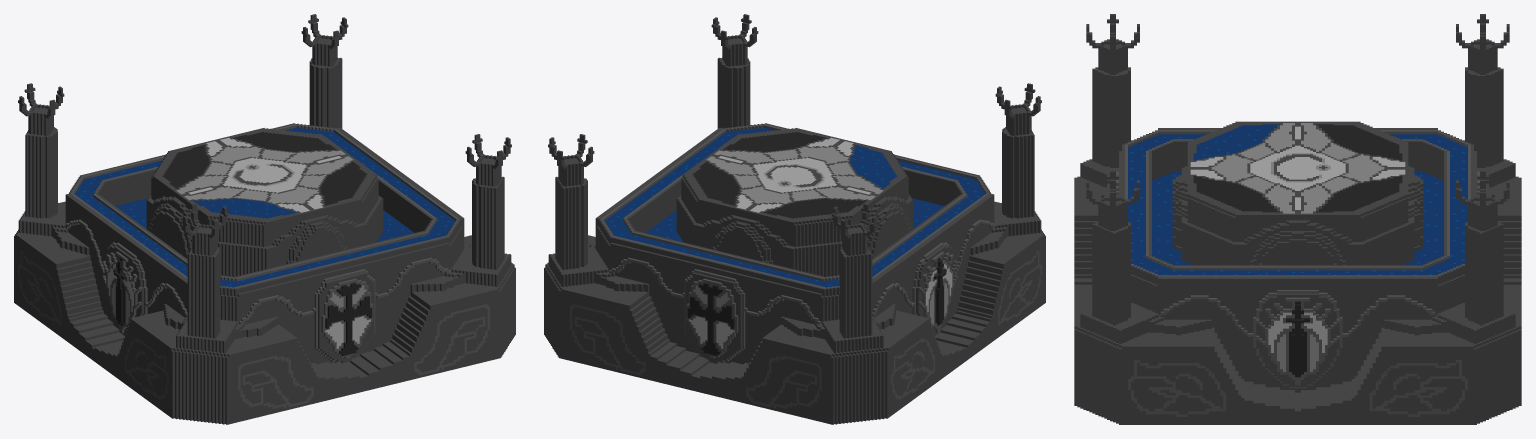
The model's file is алтарь для босса(одна синняя руна).obj.
The picture shows the model from 3 angles, left to right: view 1: azimuth 30°, elevation 25°; view 2: azimuth 150°, elevation 25°; view 3: azimuth 270°, elevation 25°; orthographic projection. The views are drawn at different scales.
Size of the model in its own units: 15 by 8.4 by 15.
Materials: 1 (1 with a texture image).
